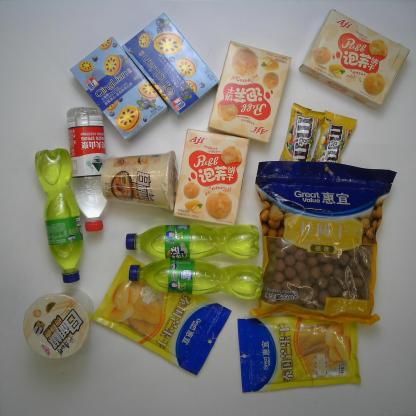Chocolate: (276, 102, 326, 183), (308, 109, 358, 185)
Dessert: (299, 8, 411, 111), (121, 11, 219, 119), (70, 36, 169, 142), (207, 40, 292, 144), (173, 128, 250, 226)
Dried Food: (249, 160, 398, 327)
Dried Fruit: (91, 255, 232, 376), (237, 312, 362, 393)
Drink: (34, 148, 85, 284), (128, 258, 265, 301), (66, 105, 110, 232), (124, 222, 260, 260)
Instant Noodles: (23, 287, 94, 360), (100, 150, 180, 211)
